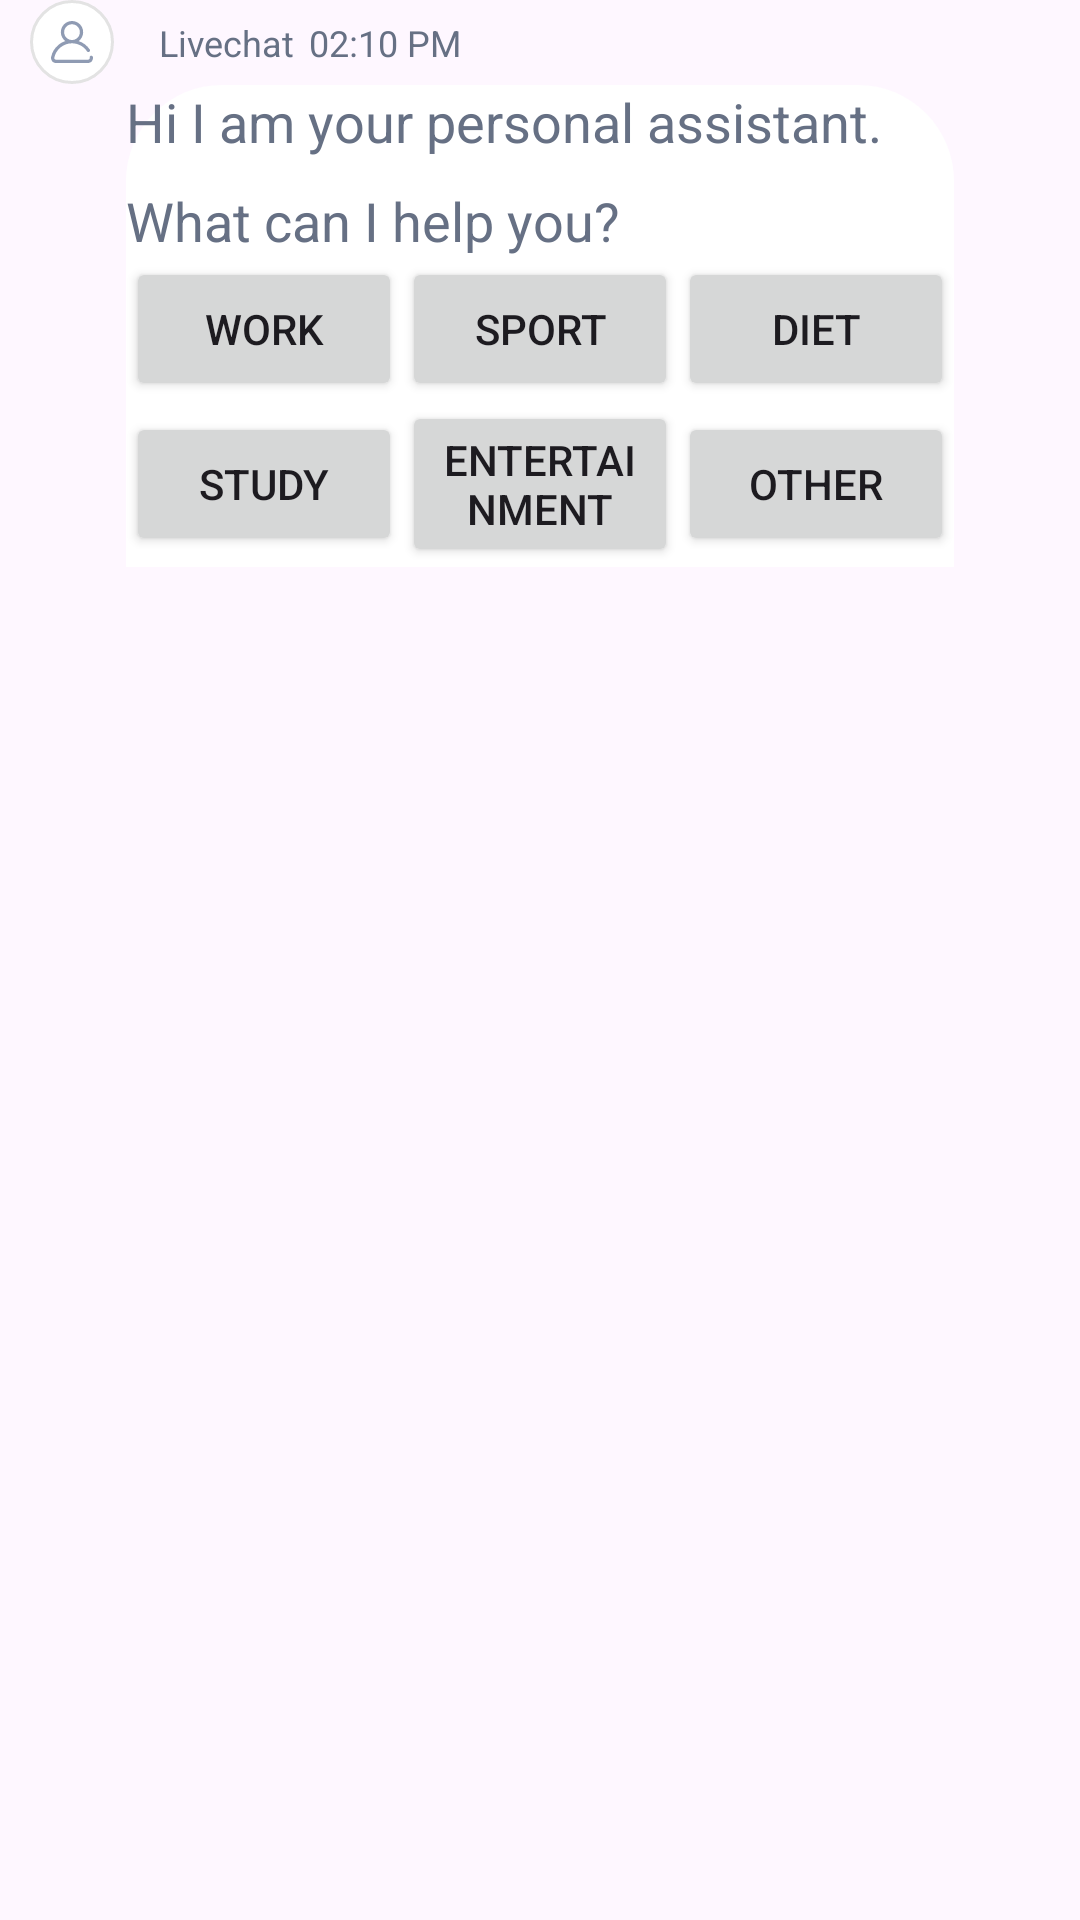

Icon bounding boxes for this 1080 x 1920 phone screenshot, format (x1, y1, x2, y2):
user: (30, 0, 114, 84)
